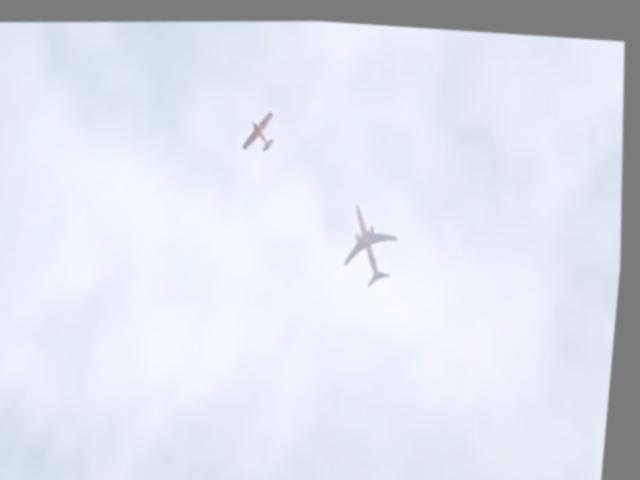plane: (340, 197, 407, 284), (241, 106, 279, 152)
